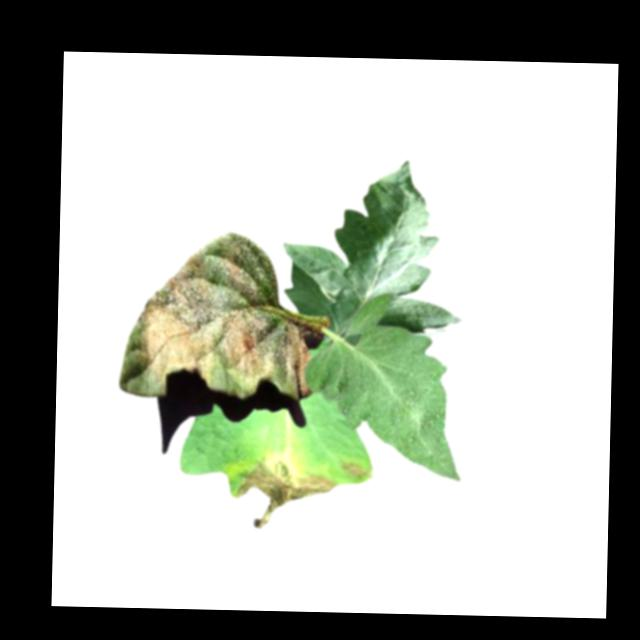Late_blight: (117, 227, 313, 402), (232, 455, 336, 530), (341, 460, 373, 482)
healthy: (280, 156, 466, 330), (301, 323, 464, 481)
